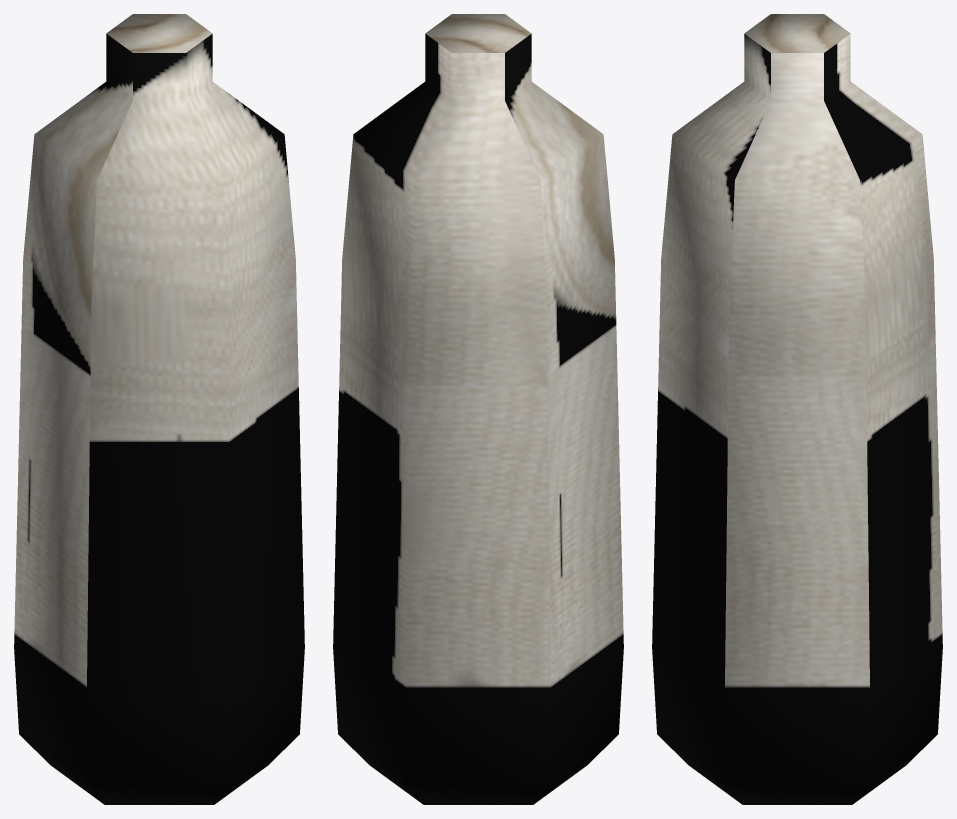
Rendered from Water.glb.
3 views of the same model, side by side, from view 1: azimuth 30°, elevation 25°; view 2: azimuth 150°, elevation 25°; view 3: azimuth 270°, elevation 25° (orthographic).
Visible parts, largest first — view 1: Water; view 2: Water; view 3: Water.
Part boxes in pixels (<box>): Water: <box>14,14,304,804</box>; Water: <box>333,14,623,804</box>; Water: <box>652,14,942,804</box>.
Bounding box in the file's own units: 0.1535 × 0.4917 × 0.1772.
1 material, 1 textured.
